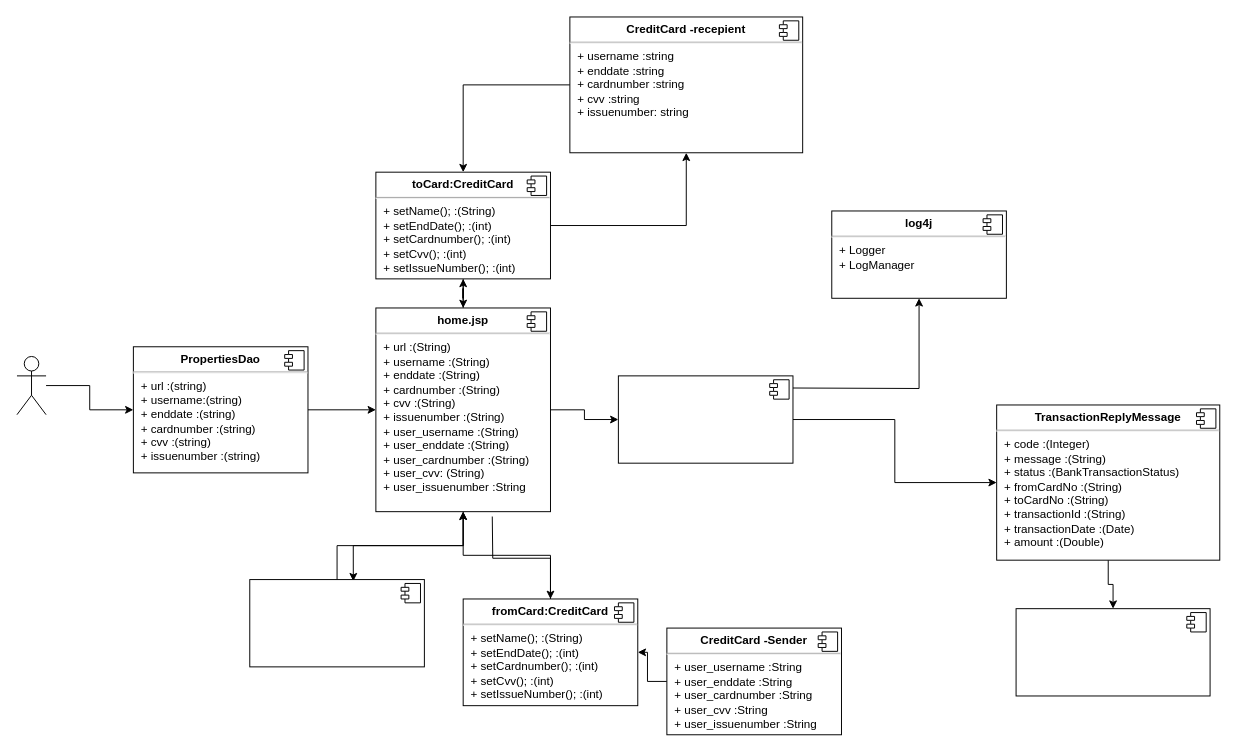
Some shapes in this 1237 by 752 pixel diagram are drawn without their labels. The shapes that lost their labels are listed below. From the top down, each one's centre as x and y in pixels, then its label:
At pixel 31 385: "User".
At pixel 705 419: "BankRestClientImpl + transferMoney : (string) + url : (string)".
At pixel 336 623: "Cardchecker.jsp - CardValidationResult - RegexCardValidator".
At pixel 1112 652: "BankTransactionStatus + SUCCESS + FAIL".
